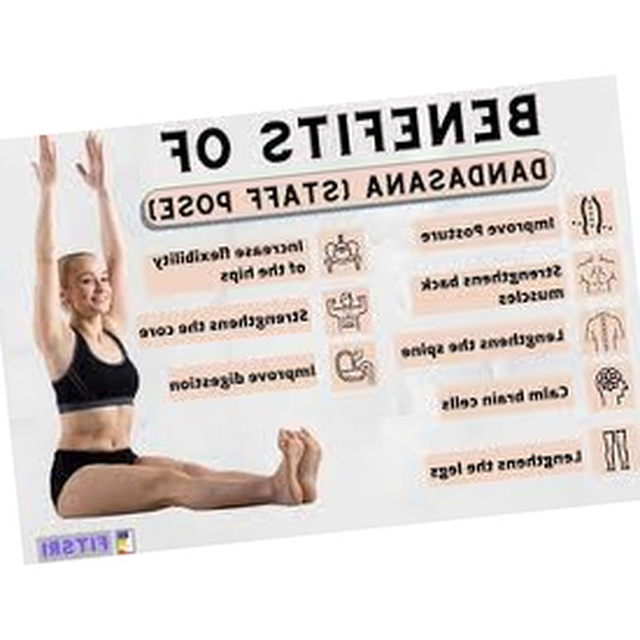Staff_Pose: (31, 129, 324, 519)
